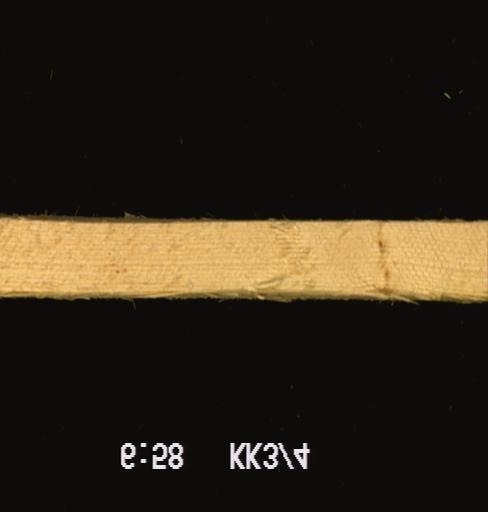small_knot: (365, 223, 412, 288)
